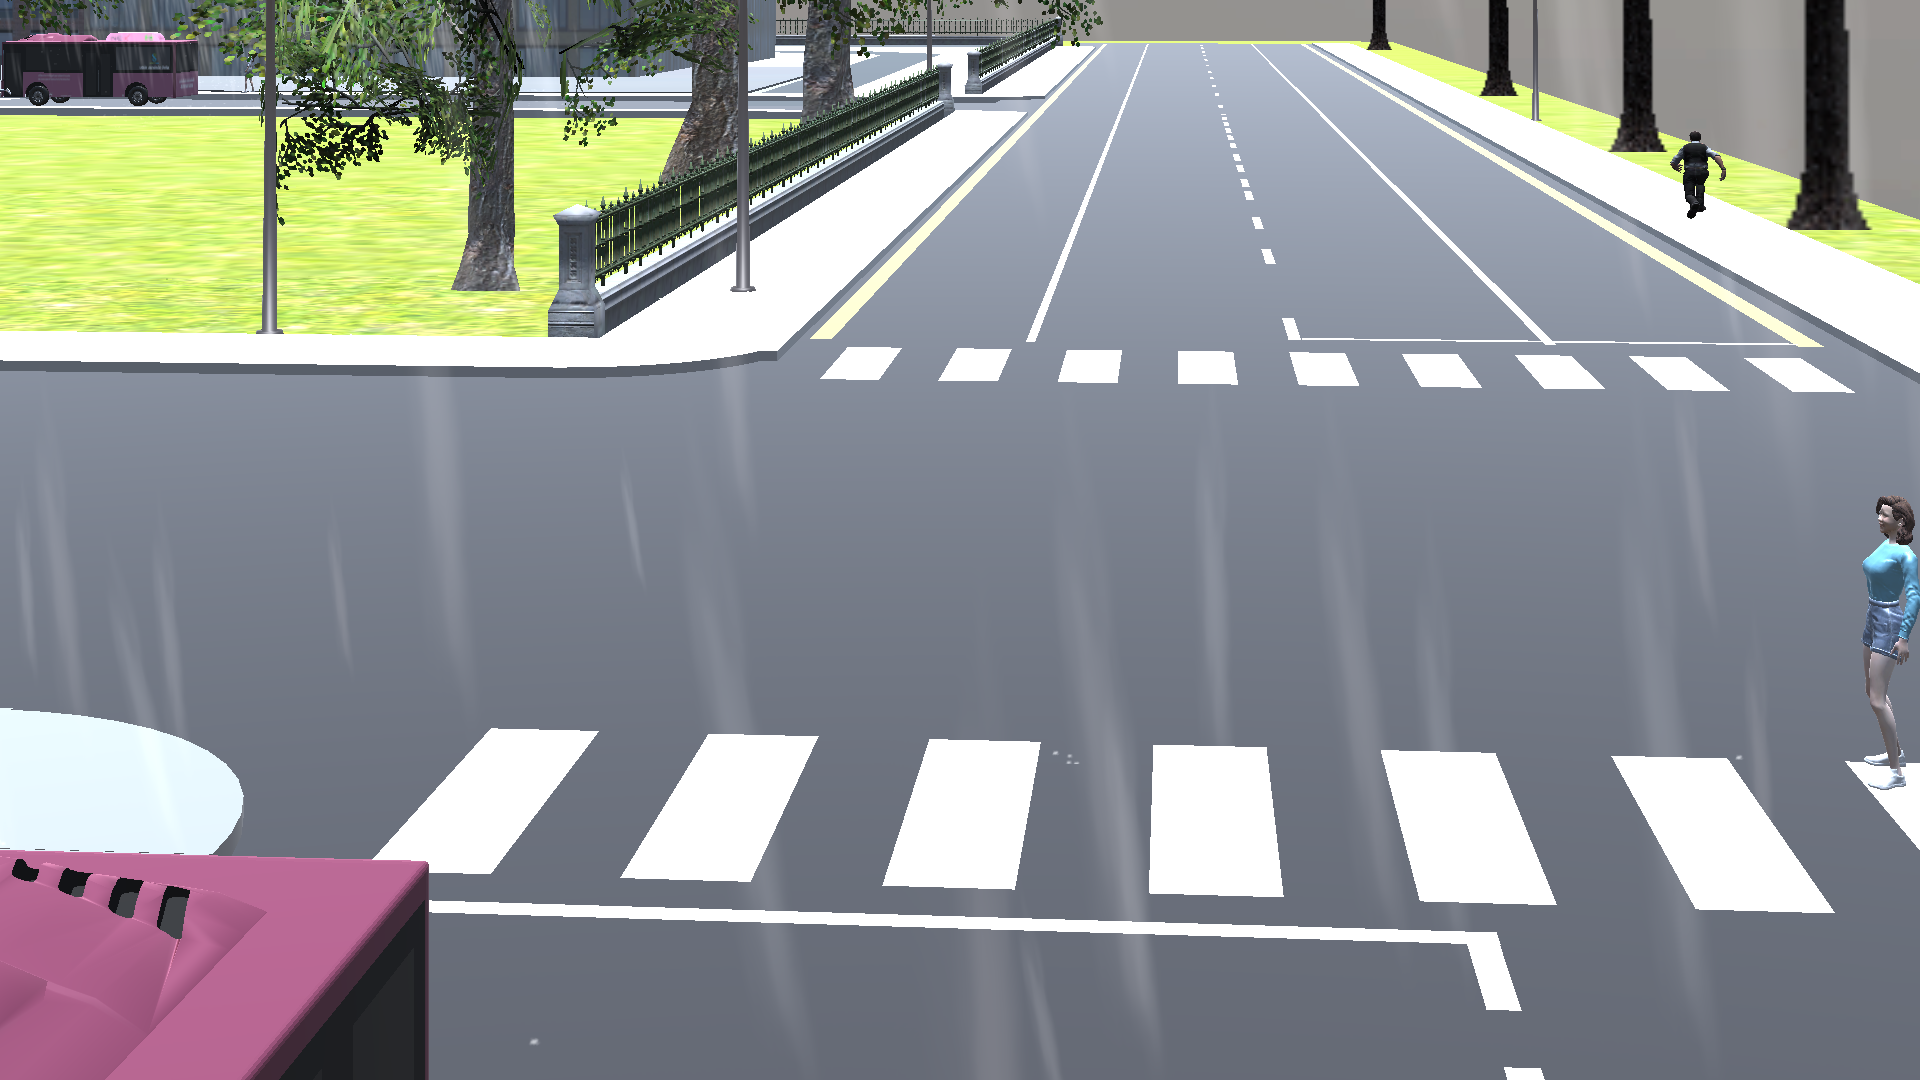pedestrian: (1844, 483, 1920, 793), (1662, 124, 1725, 231)
